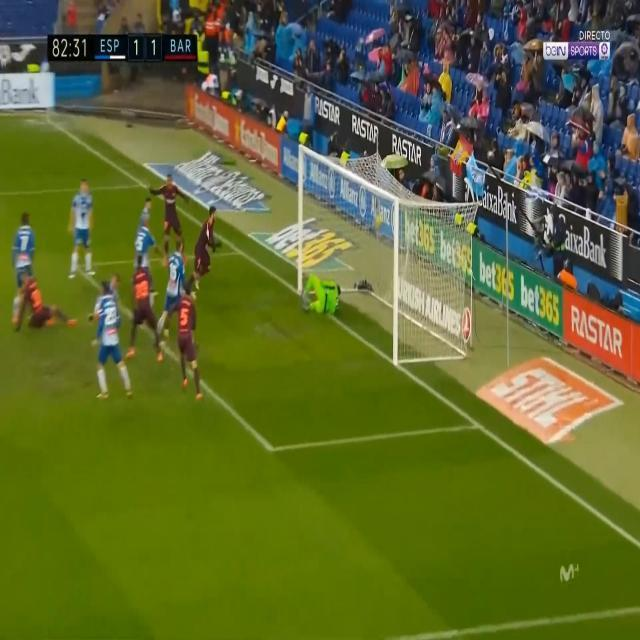goalkeeper: (299, 259, 336, 320)
player: (88, 276, 137, 401), (64, 171, 103, 285), (167, 281, 204, 397), (13, 262, 65, 344), (151, 170, 192, 264), (158, 236, 189, 355), (8, 206, 40, 308), (192, 202, 219, 291)
